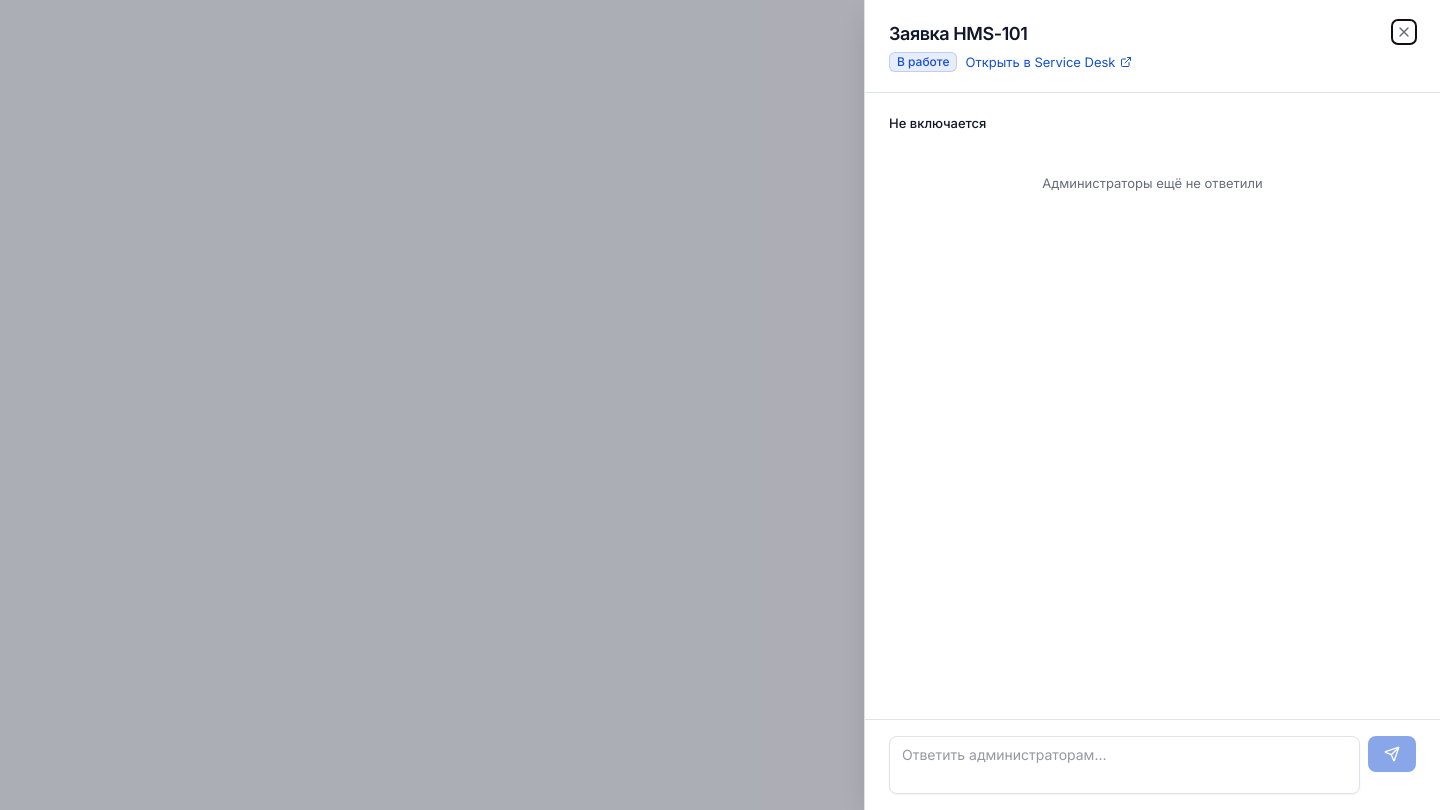
Test: RequestSheet › ответ › шлёт POST /requests/{id}/comments, очищает поле и подтягивает новый комментарий
The image size is (1440, 810).
Expected: the text "Администраторы ещё не ответили" is shown, [1042,175,1263,191]
Type "Всё ещё не работает" into the text box named "Ответ администраторам" at (1124, 765), box [889,736,1360,794]
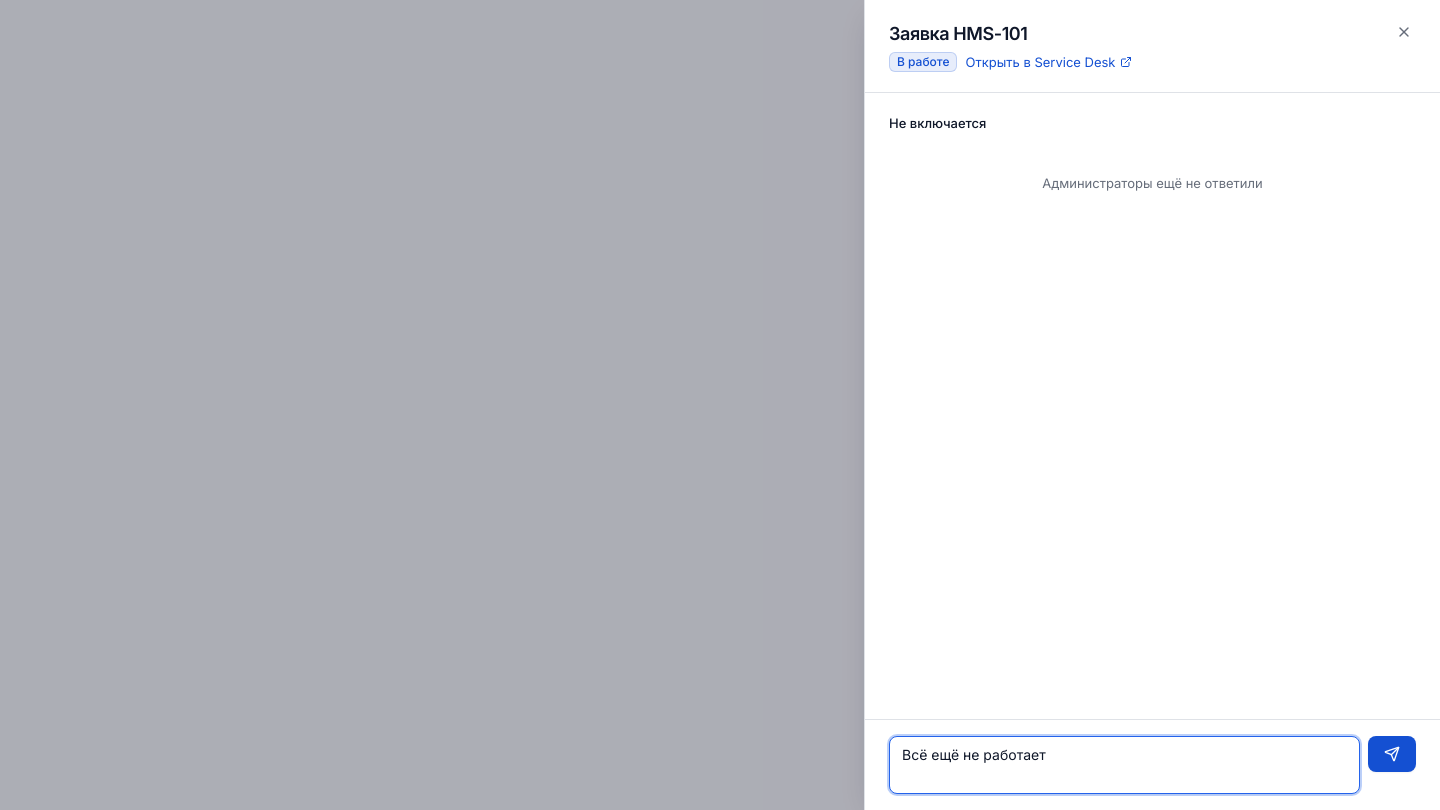
Click the button named "Отправить ответ" at (1392, 754), box [1368,736,1416,772]
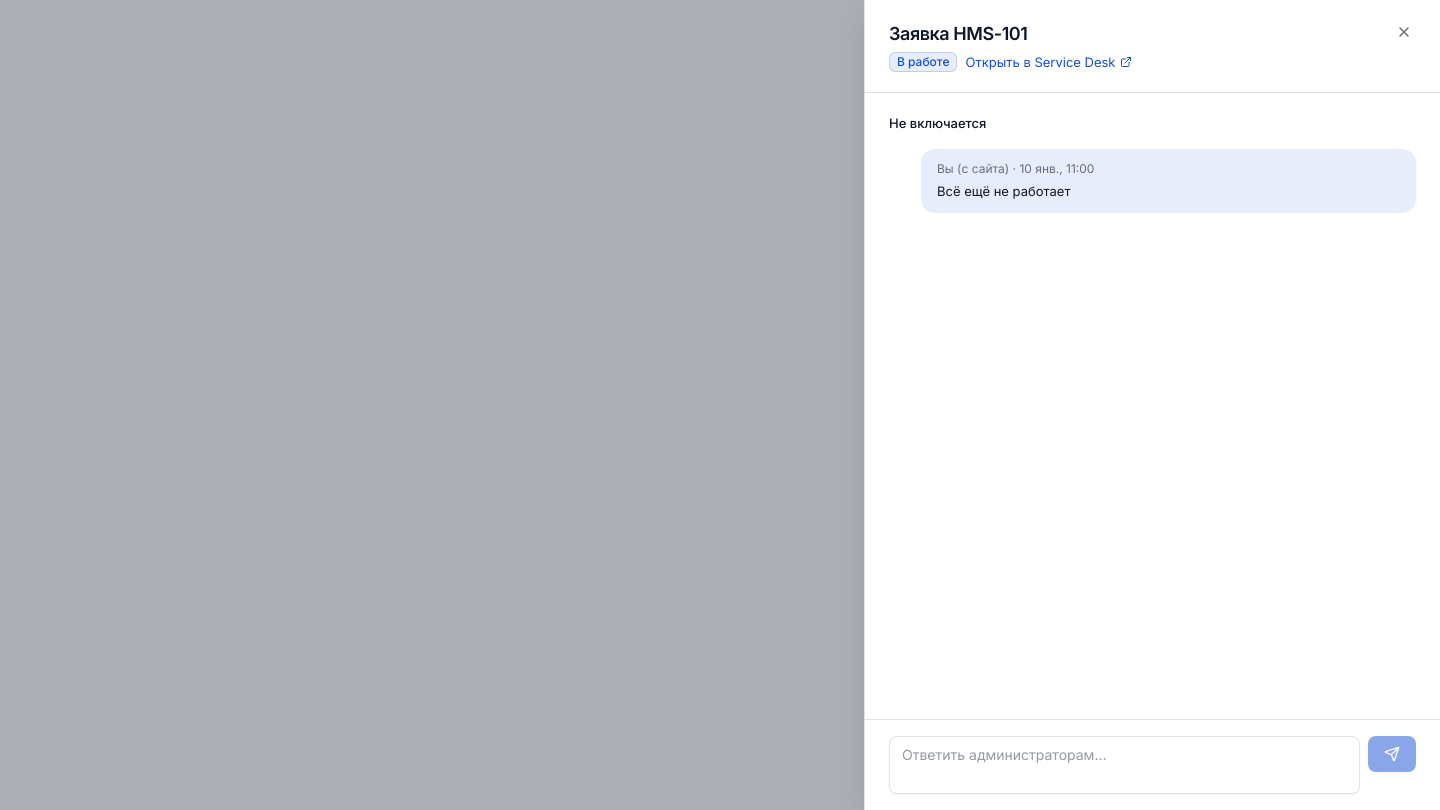
Expected: the text "Всё ещё не работает" is shown, [937,183,1070,199]
Expected: the text "Вы (с сайта)" is shown, [937,161,1009,176]
Expected: the text box named "Ответ администраторам" is empty, [889,736,1360,794]
